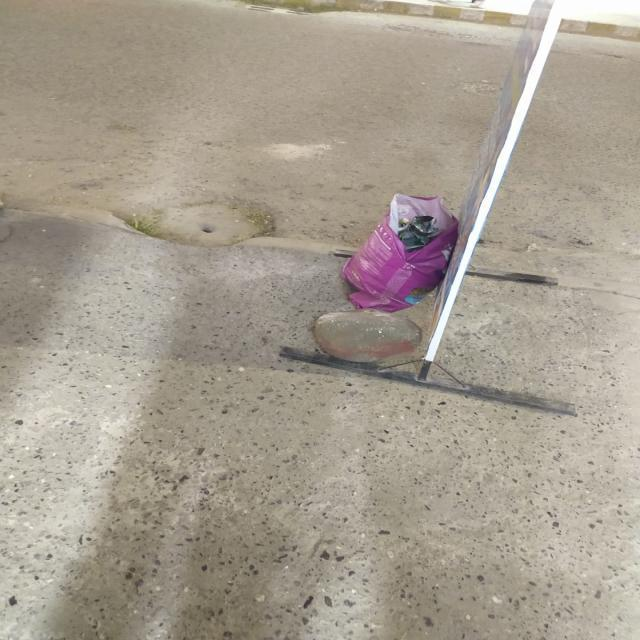Garbage_Bag: (336, 182, 466, 318)
